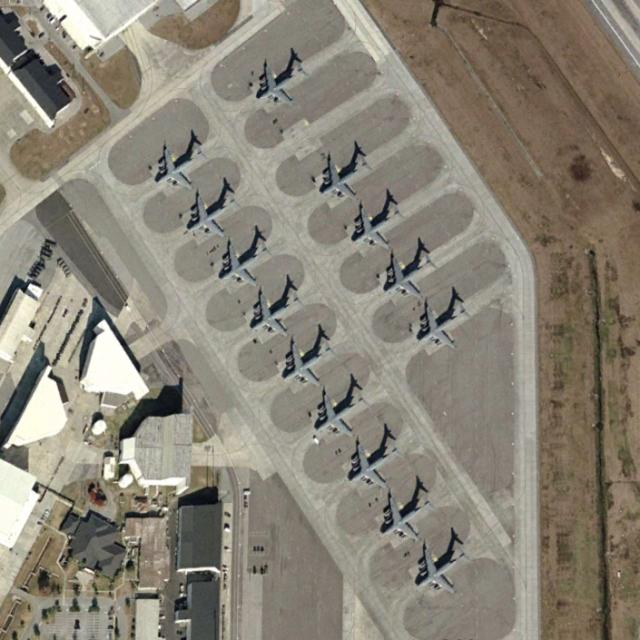fighter jet: (411, 546, 466, 592), (150, 141, 202, 189), (386, 245, 434, 296), (217, 240, 267, 287), (249, 59, 303, 102), (352, 202, 400, 250), (376, 498, 432, 538), (418, 304, 467, 349), (314, 390, 364, 434), (314, 152, 365, 195), (282, 341, 333, 384), (348, 442, 394, 488), (250, 292, 292, 336), (186, 196, 232, 236)
